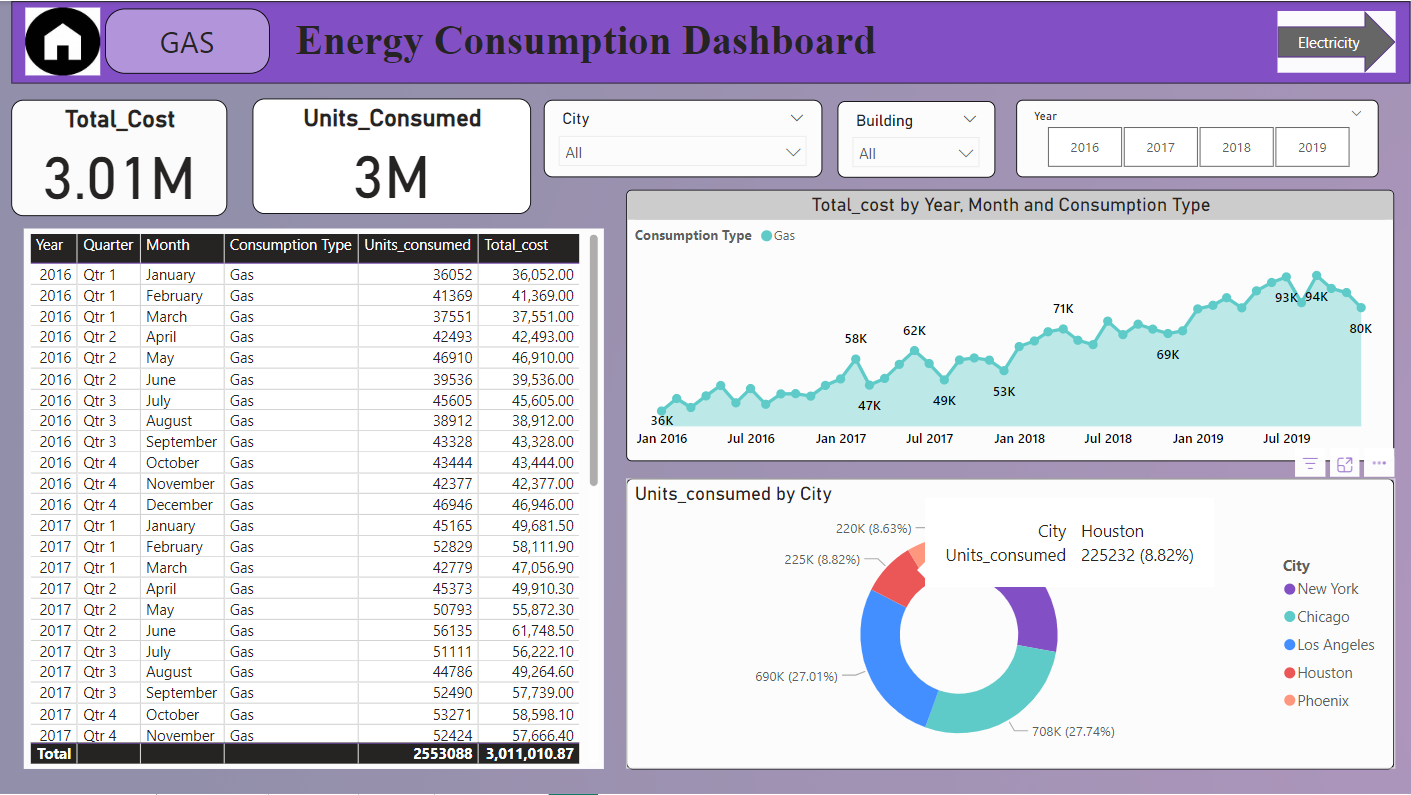

The page's visual inventory and layout, read from the dashboard file:
{"tool":"powerbi","page":{"name":"Gas","canvas":[1280,720],"ordinal":2},"visuals":[{"type":"shape","box":[10.1,0,1269.6,75],"z":0},{"type":"card","title":"Total_Cost","fields":{"Values":["Energy Consumptions.Total_cost"]},"box":[10.1,89.5,196.2,105.3],"z":1000},{"type":"card","title":"Units_Consumed","fields":{"Values":["Energy Consumptions.Units_consumed"]},"box":[229.6,89,252.7,105],"z":2000},{"type":"textbox","box":[217.9,8.7,627.6,62],"z":3000},{"type":"textbox","box":[95.6,7.3,149.7,59.2],"z":4000},{"type":"slicer","fields":{"Values":["Building Master.City"]},"box":[493.4,89.5,252.5,70.7],"z":5000},{"type":"slicer","fields":{"Values":["Building Master.Building"]},"box":[760.3,90.9,142.8,69.3],"z":6000},{"type":"slicer","fields":{"Values":["Energy Consumptions.Date.Variation.Date Hierarchy.Year"]},"box":[921.9,89.5,328.9,70.7],"z":7000},{"type":"areaChart","fields":{"Category":["Energy Consumptions.Date.Variation.Date Hierarchy.Year","Energy Consumptions.Date.Variation.Date Hierarchy.Month"],"Y":["Energy Consumptions.Total_cost"],"Series":["Energy Consumptions.Consumption Type"]},"box":[568.4,171.7,696.9,246.7],"z":8000},{"type":"tableEx","fields":{"Values":["Energy Consumptions.Date.Variation.Date Hierarchy.Year","Energy Consumptions.Date.Variation.Date Hierarchy.Quarter","Energy Consumptions.Date.Variation.Date Hierarchy.Month","Energy Consumptions.Consumption Type","Energy Consumptions.Units_consumed","Energy Consumptions.Total_cost"]},"box":[21.6,206.3,526.6,490.5],"z":9000},{"type":"donutChart","fields":{"Category":["Building Master.City"],"Y":["Energy Consumptions.Units_consumed"]},"box":[568.4,432.8,696.9,264],"z":10000},{"type":"image","box":[17.7,1,77.9,71.7],"z":11000},{"type":"shape","box":[1158.8,9.4,107,56.1],"z":12000}]}

Visuals, with their boxes in screenshot pixels (x1, y1, x2, y2), scaled from the page's 1280x720 canvas onto the 1411x795 screenshot:
shape: [left=11, top=0, right=1410, bottom=83]
"Total_Cost" card: [left=11, top=99, right=227, bottom=215]
"Units_Consumed" card: [left=253, top=98, right=532, bottom=214]
textbox: [left=240, top=10, right=932, bottom=78]
textbox: [left=105, top=8, right=270, bottom=73]
slicer - Building Master.City: [left=544, top=99, right=822, bottom=177]
slicer - Building Master.Building: [left=838, top=100, right=996, bottom=177]
slicer - Energy Consumptions.Date.Variation.Date Hierarchy.Year: [left=1016, top=99, right=1379, bottom=177]
areaChart - Energy Consumptions.Date.Variation.Date Hierarchy.Year x Energy Consumptions.Date.Variation.Date Hierarchy.Month: [left=627, top=190, right=1395, bottom=462]
tableEx - Energy Consumptions.Date.Variation.Date Hierarchy.Year x Energy Consumptions.Date.Variation.Date Hierarchy.Quarter: [left=24, top=228, right=604, bottom=769]
donutChart - Building Master.City x Energy Consumptions.Units_consumed: [left=627, top=478, right=1395, bottom=769]
image: [left=20, top=1, right=105, bottom=80]
shape: [left=1277, top=10, right=1395, bottom=72]
